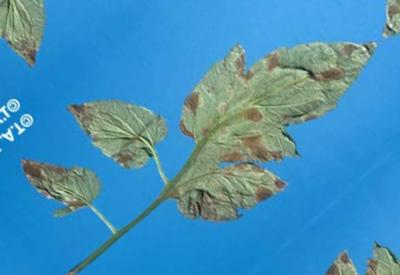Tomato mold leaf: (119, 0, 400, 256), (53, 61, 183, 192), (10, 129, 111, 231)
